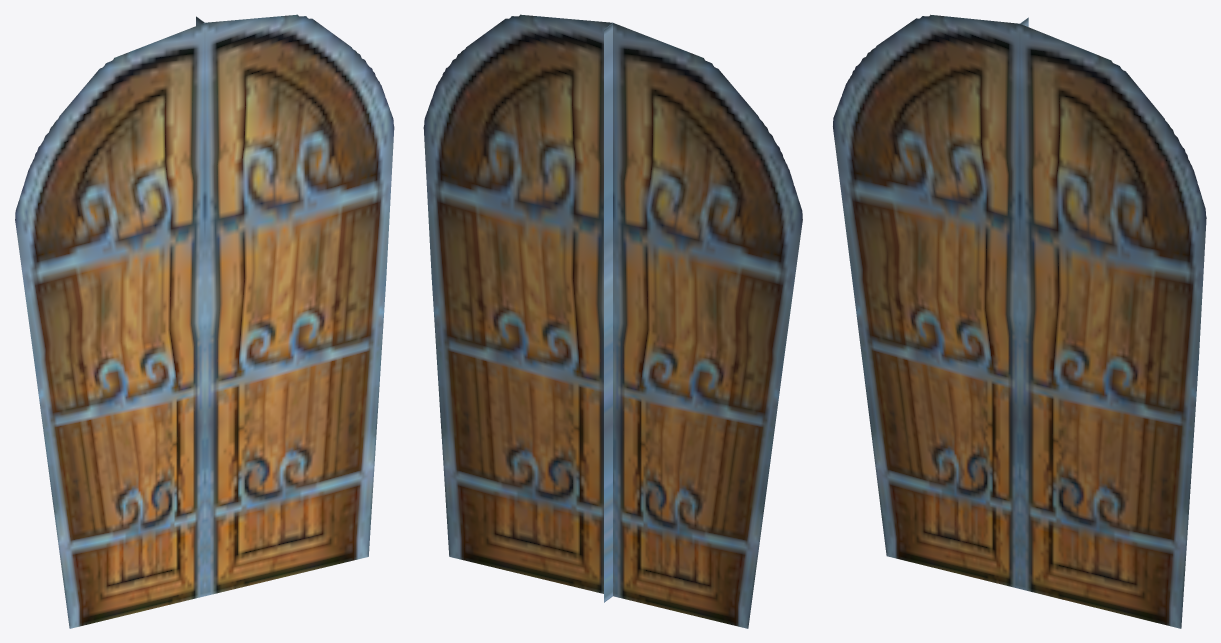
The model's file is gate_03.fbx.
3 renders of one model, left to right at view 1: azimuth 30°, elevation 25°; view 2: azimuth 150°, elevation 25°; view 3: azimuth 330°, elevation 25°, orthographic.
Visible parts, largest first — view 1: gate00_mesh; view 2: gate00_mesh; view 3: gate00_mesh.
Part boxes in pixels (box(x1,y1,x2,y2)): gate00_mesh: box(15, 14, 394, 628); gate00_mesh: box(423, 14, 802, 628); gate00_mesh: box(833, 14, 1206, 628).
Size of the model in its own units: 2.42 by 3.49 by 0.0993.
